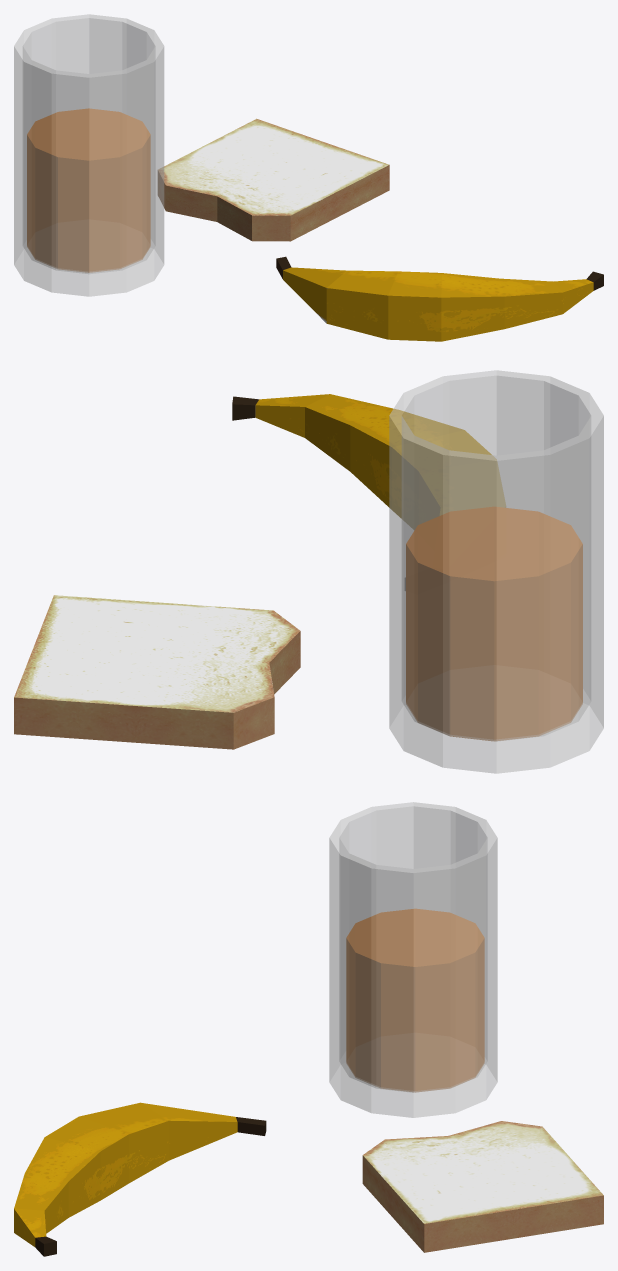
File: Breakfeast.glb
3 renders of one model, top to bottom at view 1: azimuth 30°, elevation 25°; view 2: azimuth 150°, elevation 25°; view 3: azimuth 270°, elevation 25°, orthographic. The views are drawn at different scales.
Parts seen in each view (by area): view 1: Cup, Juice, Bread2, Banana; view 2: Cup, Juice, Bread2, Banana; view 3: Cup, Juice, Bread2, Banana.
Boxes of the visible parts, x1,y1,x2,y2 form: Cup: (14,14,164,296); Juice: (27,108,150,272); Bread2: (158,118,389,241); Banana: (276,256,603,341); Cup: (389,370,603,773); Juice: (406,507,582,741); Bread2: (14,595,300,749); Banana: (232,394,505,590); Cup: (329,802,497,1117); Juice: (346,909,484,1092); Bread2: (362,1121,603,1252); Banana: (14,1102,266,1256).
Bounding box in the file's own units: 0.4758 × 0.2439 × 0.5243.
5 materials, 2 textured.
